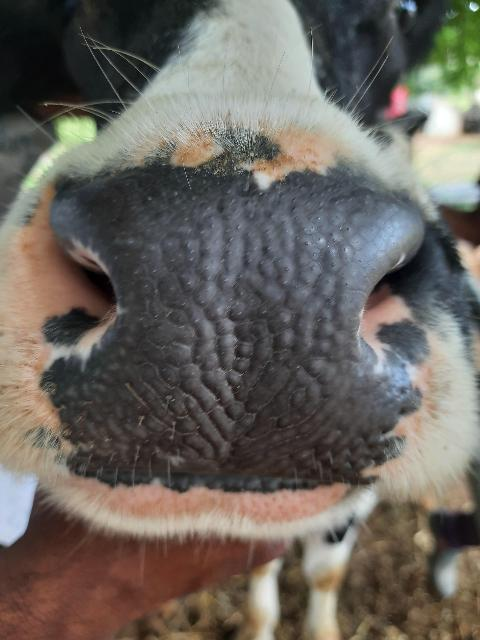Muzzle: (113, 194, 355, 462)
